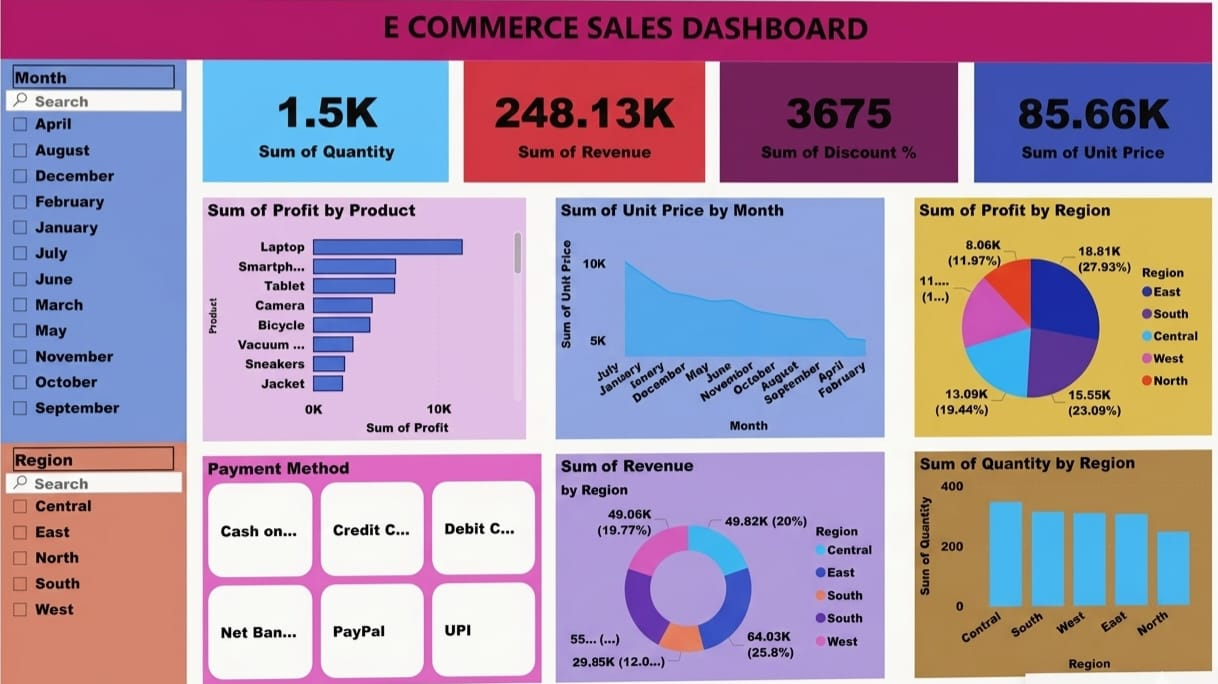

This screenshot's page, from the dashboard's own definition file:
{"tool":"powerbi","page":{"name":"Page 1","canvas":[1280,720],"ordinal":0},"visuals":[{"type":"textbox","box":[0,0,1280,64],"z":0},{"type":"card","fields":{"Values":["Sum(🛒  E-Commerce Sales Dashboard — Raw Dataset (2024) (Sales Data).Quantity)"]},"box":[208,64,256,128],"z":1000},{"type":"card","fields":{"Values":["Sum(🛒  E-Commerce Sales Dashboard — Raw Dataset (2024) (Sales Data).Revenue)"]},"box":[480,64,256,128],"z":2000},{"type":"card","fields":{"Values":["Sum(🛒  E-Commerce Sales Dashboard — Raw Dataset (2024) (Sales Data).Discount %)"]},"box":[752,64,256,128],"z":3000},{"type":"card","fields":{"Values":["Sum(🛒  E-Commerce Sales Dashboard — Raw Dataset (2024) (Sales Data).Unit Price)"]},"box":[1024,64,256,128],"z":4000},{"type":"slicer","fields":{"Values":["🛒  E-Commerce Sales Dashboard — Raw Dataset (2024) (Sales Data).Month"]},"box":[0,64,192,400],"z":5000},{"type":"slicer","fields":{"Values":["🛒  E-Commerce Sales Dashboard — Raw Dataset (2024) (Sales Data).Region"]},"box":[0,464,192,256],"z":6000},{"type":"barChart","fields":{"Category":["🛒  E-Commerce Sales Dashboard — Raw Dataset (2024) (Sales Data).Product"],"Y":["Sum(🛒  E-Commerce Sales Dashboard — Raw Dataset (2024) (Sales Data).Profit)"]},"box":[208,208,336,256],"z":7000},{"type":"stackedAreaChart","fields":{"Category":["🛒  E-Commerce Sales Dashboard — Raw Dataset (2024) (Sales Data).Month"],"Y":["Sum(🛒  E-Commerce Sales Dashboard — Raw Dataset (2024) (Sales Data).Unit Price)"]},"box":[576,208,352,256],"z":8000},{"type":"pieChart","fields":{"Y":["Sum(🛒  E-Commerce Sales Dashboard — Raw Dataset (2024) (Sales Data).Profit)"],"Category":["🛒  E-Commerce Sales Dashboard — Raw Dataset (2024) (Sales Data).Region"]},"box":[960,208,320,256],"z":9000},{"type":"advancedSlicerVisual","fields":{"Values":["🛒  E-Commerce Sales Dashboard — Raw Dataset (2024) (Sales Data).Payment Method"]},"box":[208,480,352,240],"z":10000},{"type":"donutChart","fields":{"Series":["🛒  E-Commerce Sales Dashboard — Raw Dataset (2024) (Sales Data).Region"],"Y":["Sum(🛒  E-Commerce Sales Dashboard — Raw Dataset (2024) (Sales Data).Revenue)"]},"box":[576,480,352,240],"z":11000},{"type":"clusteredColumnChart","fields":{"Y":["Sum(🛒  E-Commerce Sales Dashboard — Raw Dataset (2024) (Sales Data).Quantity)"],"Category":["🛒  E-Commerce Sales Dashboard — Raw Dataset (2024) (Sales Data).Region"]},"box":[960,480,320,240],"z":12000}]}

Visuals, with their boxes in screenshot pixels (x1, y1, x2, y2), scaled from the page's 1280x720 canvas onto the 1218x684 screenshot:
textbox: 0/0/1217/61
card - Sum(🛒  E-Commerce Sales Dashboard — Raw Dataset (2024) (Sales Data).Quantity): 198/61/442/182
card - Sum(🛒  E-Commerce Sales Dashboard — Raw Dataset (2024) (Sales Data).Revenue): 457/61/700/182
card - Sum(🛒  E-Commerce Sales Dashboard — Raw Dataset (2024) (Sales Data).Discount %): 716/61/959/182
card - Sum(🛒  E-Commerce Sales Dashboard — Raw Dataset (2024) (Sales Data).Unit Price): 974/61/1217/182
slicer - 🛒  E-Commerce Sales Dashboard — Raw Dataset (2024) (Sales Data).Month: 0/61/183/441
slicer - 🛒  E-Commerce Sales Dashboard — Raw Dataset (2024) (Sales Data).Region: 0/441/183/683
barChart - 🛒  E-Commerce Sales Dashboard — Raw Dataset (2024) (Sales Data).Product x Sum(🛒  E-Commerce Sales Dashboard — Raw Dataset (2024) (Sales Data).Profit): 198/198/518/441
stackedAreaChart - 🛒  E-Commerce Sales Dashboard — Raw Dataset (2024) (Sales Data).Month x Sum(🛒  E-Commerce Sales Dashboard — Raw Dataset (2024) (Sales Data).Unit Price): 548/198/883/441
pieChart - Sum(🛒  E-Commerce Sales Dashboard — Raw Dataset (2024) (Sales Data).Profit) x 🛒  E-Commerce Sales Dashboard — Raw Dataset (2024) (Sales Data).Region: 914/198/1217/441
advancedSlicerVisual - 🛒  E-Commerce Sales Dashboard — Raw Dataset (2024) (Sales Data).Payment Method: 198/456/533/683
donutChart - 🛒  E-Commerce Sales Dashboard — Raw Dataset (2024) (Sales Data).Region x Sum(🛒  E-Commerce Sales Dashboard — Raw Dataset (2024) (Sales Data).Revenue): 548/456/883/683
clusteredColumnChart - Sum(🛒  E-Commerce Sales Dashboard — Raw Dataset (2024) (Sales Data).Quantity) x 🛒  E-Commerce Sales Dashboard — Raw Dataset (2024) (Sales Data).Region: 914/456/1217/683
